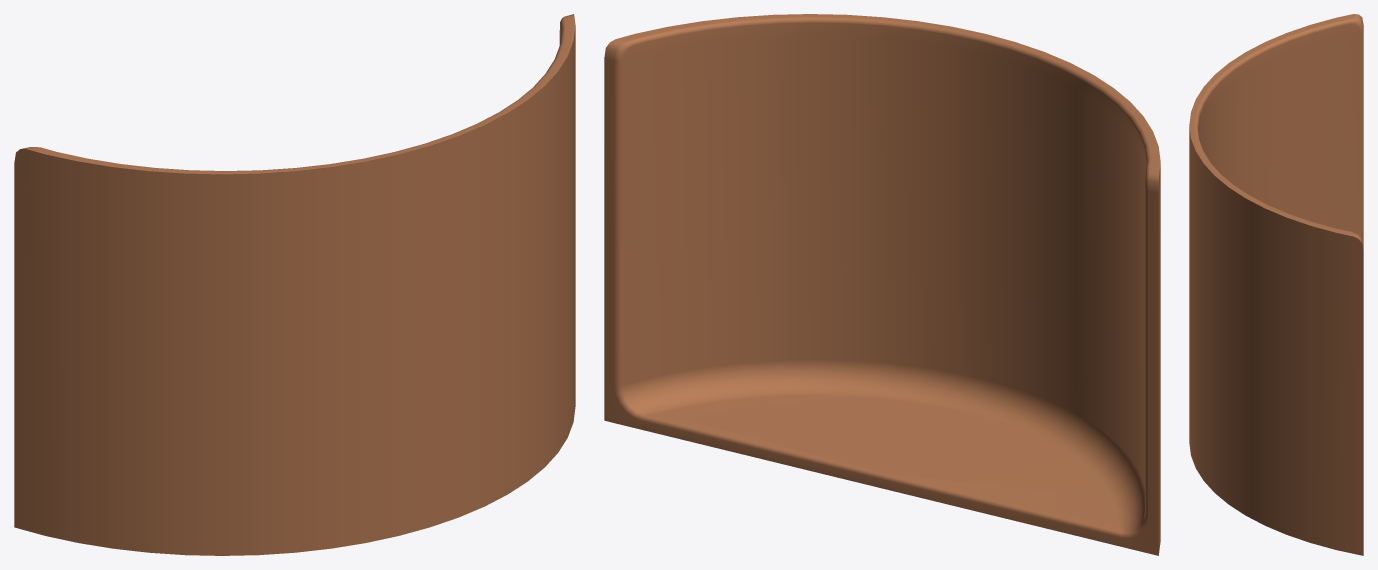
The model's file is WellCurve.fbx.
3 views of the same model, side by side, from view 1: azimuth 30°, elevation 25°; view 2: azimuth 150°, elevation 25°; view 3: azimuth 270°, elevation 25° (orthographic). The views are drawn at different scales.
Visible parts, largest first — view 1: root; view 2: root; view 3: root.
Boxes of the visible parts, x1=… form: root: x1=14, y1=14, x2=575, y2=555; root: x1=604, y1=14, x2=1160, y2=555; root: x1=1189, y1=14, x2=1363, y2=555.
Size of the model in its own units: 0.512 by 0.3339 by 0.1662.
Materials: 1 (1 with a texture image).
